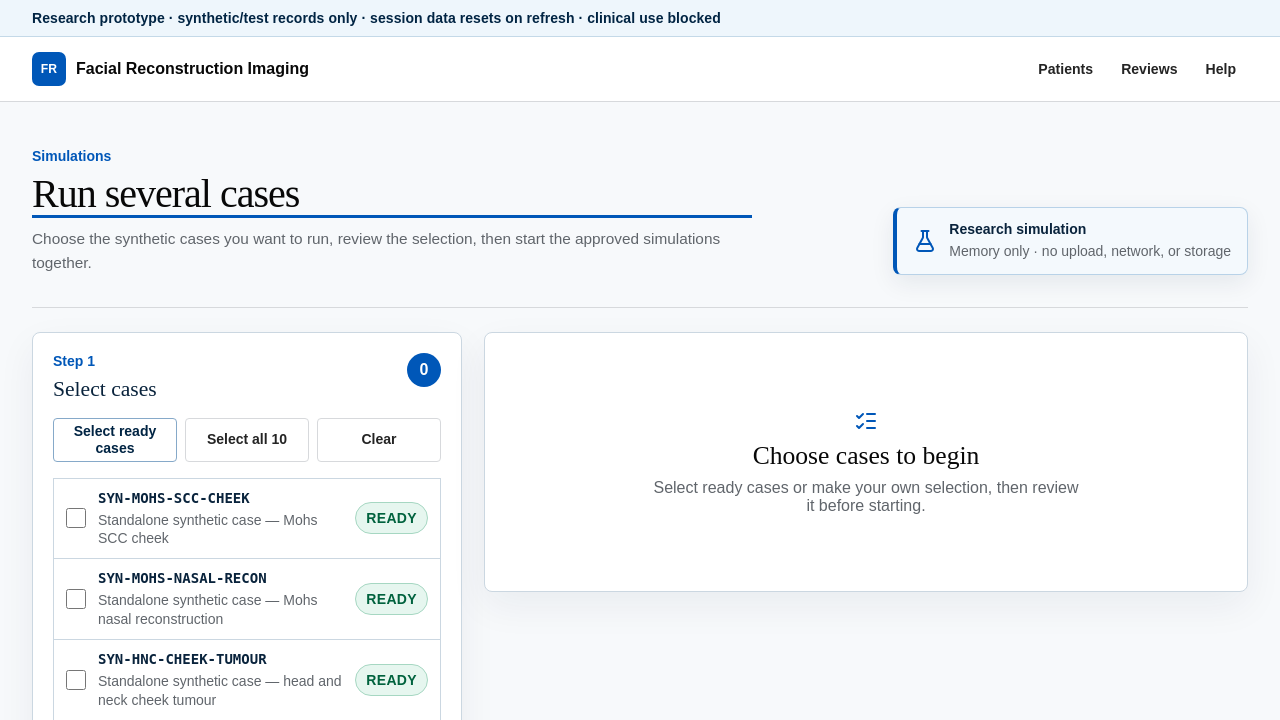
Test case: production batch route integration › exposes the real queued window and launches only after 120ms
Click the checkbox labelled "SYN-HNC-CHEEK-TUMOUR".
click(76, 680)  # box x1=66 y1=670 x2=86 y2=690
(page scrolled)
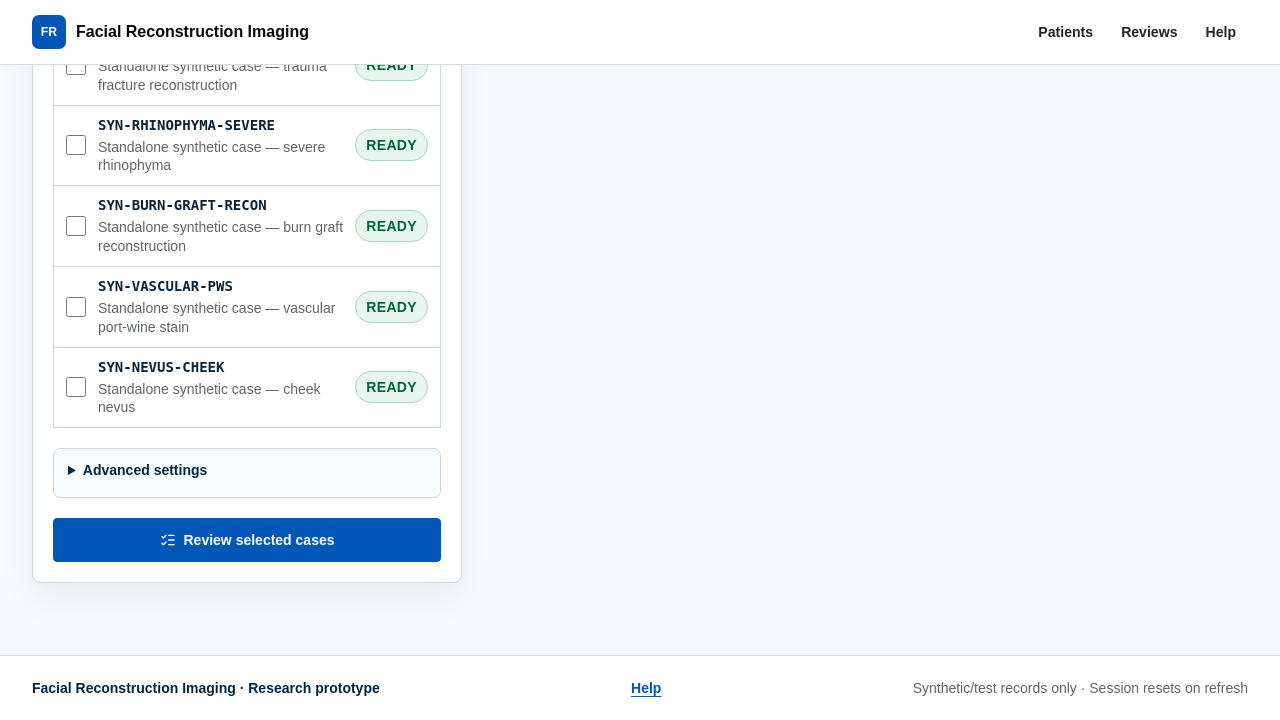
Click the button "Review selected cases".
click(247, 540)  # box x1=53 y1=518 x2=441 y2=562
(page scrolled)
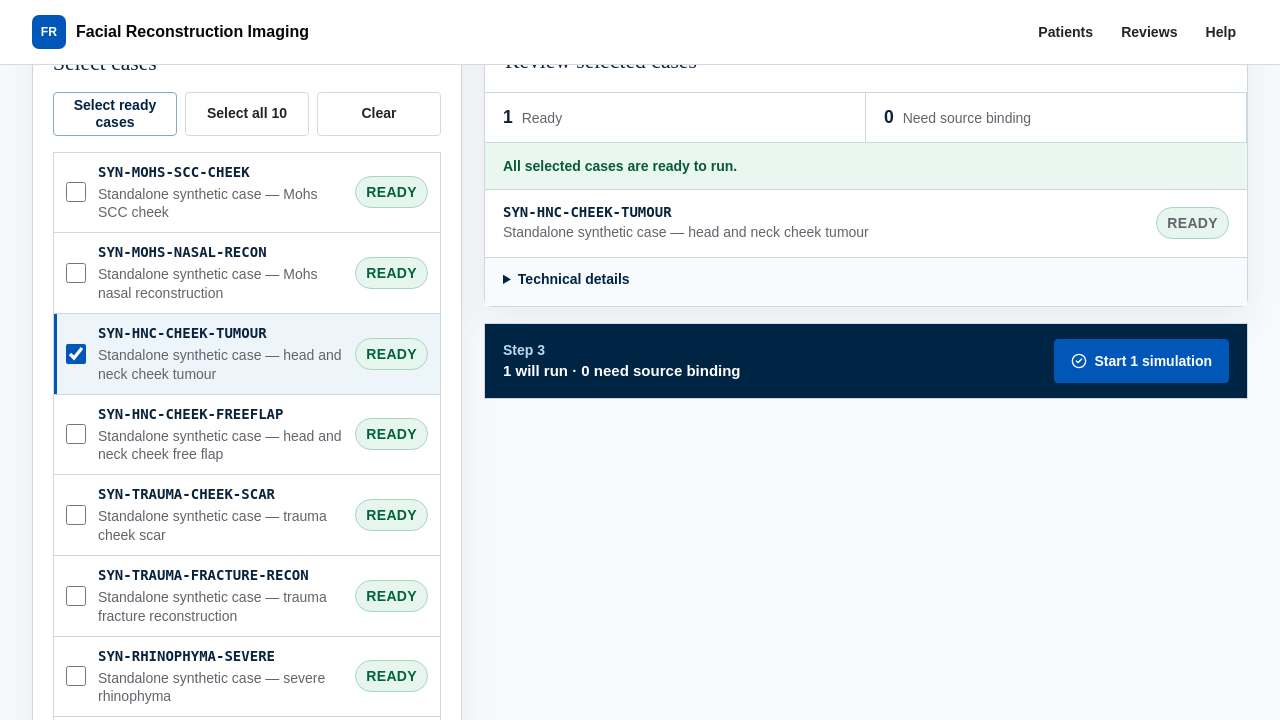
Click the button "Start 1 simulation".
click(1141, 361)  # box x1=1054 y1=339 x2=1229 y2=383
Wait 120 ms
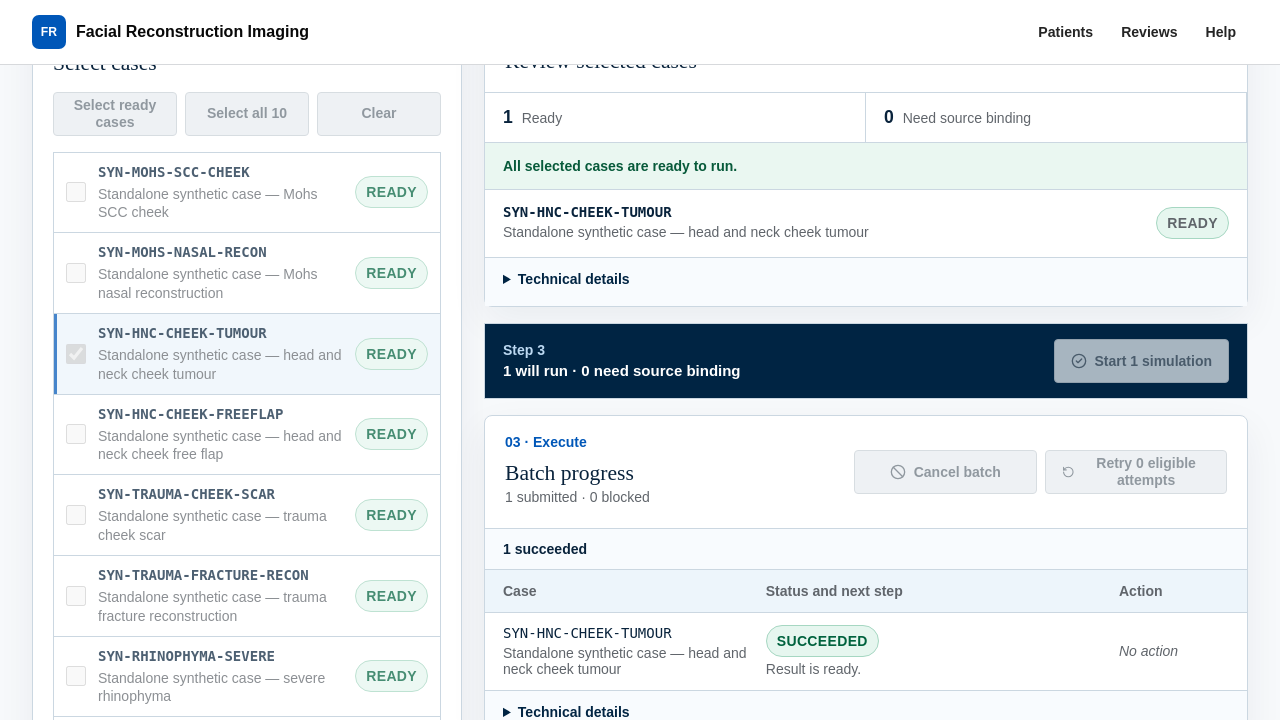
Expected: the text "succeeded" is shown, x1=766 y1=625 x2=879 y2=657
